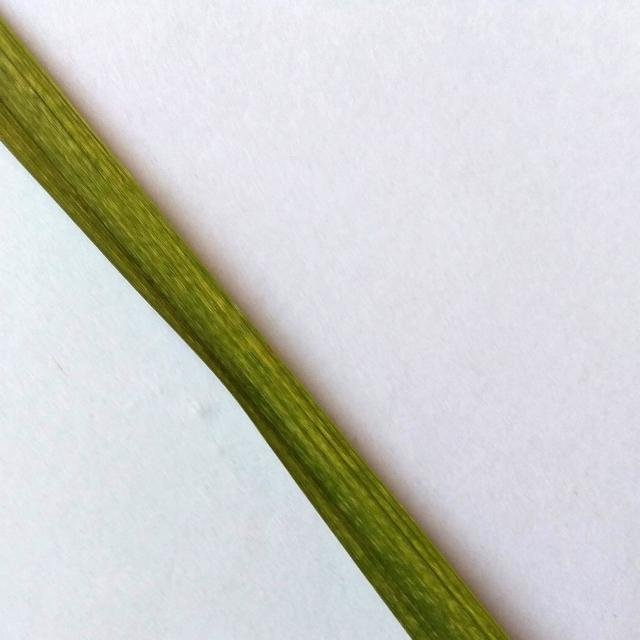Rice_Healthy: (0, 19, 510, 640)
